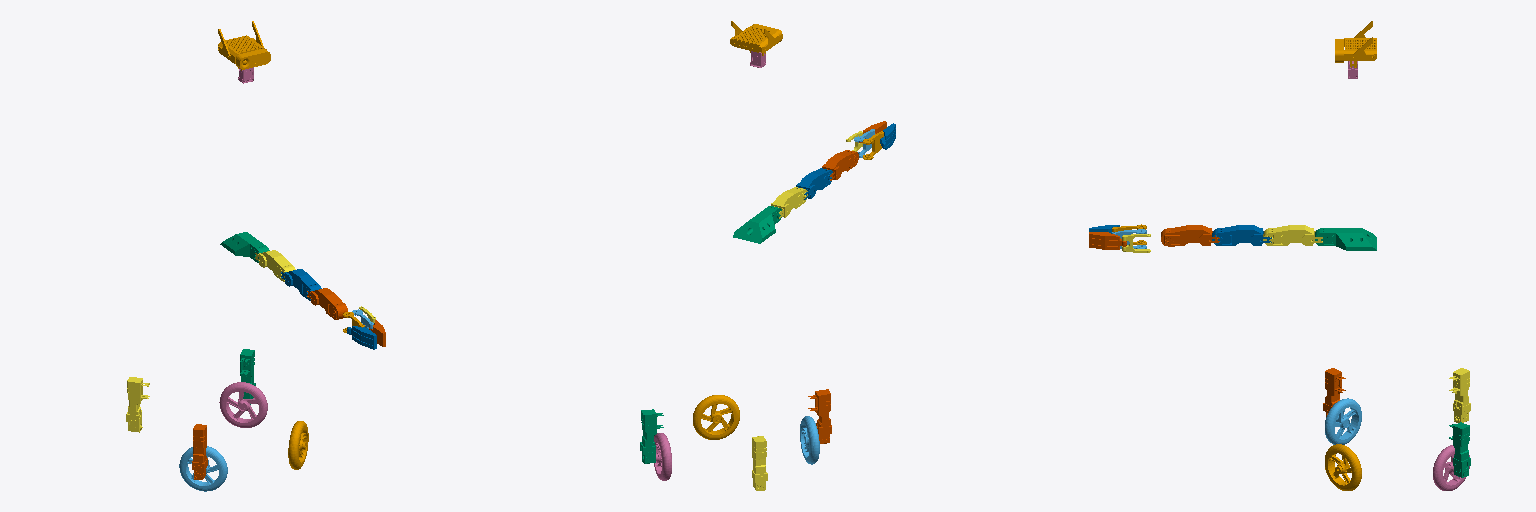
robot.urdf — sobit_pro:
<?xml version="1.0" encoding="utf-8"?>
<!-- =================================================================================== -->
<!-- |    This document was autogenerated by xacro from sobit_pro.urdf.xacro           | -->
<!-- |    EDITING THIS FILE BY HAND IS NOT RECOMMENDED                                 | -->
<!-- =================================================================================== -->
<robot name="sobit_pro" xmlns:controller="http://playerstage.sourceforge.net/gazebo/xmlschema/#controller" xmlns:interface="http://playerstage.sourceforge.net/gazebo/xmlschema/#interface" xmlns:sensor="http://playerstage.sourceforge.net/gazebo/xmlschema/#sensor">
  <material name="wheel">
    <color rgba="0.2 0.2 0.2 1.0"/>
  </material>
  <material name="black">
    <color rgba="0.1 0.1 0.1 1.0"/>
  </material>
  <material name="red">
    <color rgba="1.0 0.0 0.0 1.0"/>
  </material>
  <material name="green">
    <color rgba="0.0 1.0 0.0 1.0"/>
  </material>
  <material name="blue">
    <color rgba="0.0 0.0 1.0 1.0"/>
  </material>
  <!--
  <xacro:include filename="$(find sobit_pro_description)/urdf/arm/arm.urdf.xacro" />
  <xacro:include filename="$(find sobit_pro_description)/urdf/gripper/gripper.urdf.xacro" />
  <xacro:include filename="$(find sobit_pro_description)/urdf/head/head.urdf.xacro" />
  <xacro:include filename="$(find sobit_pro_description)/urdf/pole/pole.urdf.xacro" />
  <xacro:include filename="$(find sobit_pro_description)/urdf/sensor/sensor.urdf.xacro" />
  -->
  <link name="base_footprint"/>
  <joint name="base_joint" type="fixed">
    <parent link="base_footprint"/>
    <child link="base_link"/>
    <origin rpy="0 0 0" xyz="0 0 0.143"/>
  </joint>
  <link name="base_link">
    <visual>
      <origin rpy="1.570796327 0 0" xyz="0 0 -0.143"/>
      <geometry>
        <mesh filename="package://sobit_pro_description/meshes/base/sobit_pro_body.dae"/>
      </geometry>
    </visual>
  </link>
  <!--steering-->
  <joint name="steer_b_l_joint" type="revolute">
    <parent link="base_link"/>
    <child link="steer_b_l_link"/>
    <origin rpy="0 0 0" xyz="0.15841 0.15841 0.07"/>
    <axis xyz="0 0 1"/>
    <limit effort="10" lower="-1.5" upper="1.5" velocity="10"/>
    <dynamics damping="0.2" friction="0"/>
  </joint>
  <link name="steer_b_l_link">
    <visual>
      <origin rpy="1.570796327 0 0" xyz="-0.15841 -0.15841 -0.213"/>
      <geometry>
        <mesh filename="package://sobit_pro_description/meshes/wheel/sobit_pro_steer_b_l.dae"/>
      </geometry>
    </visual>
  </link>
  <joint name="steer_b_r_joint" type="revolute">
    <parent link="base_link"/>
    <child link="steer_b_r_link"/>
    <origin rpy="0 0 0" xyz="-0.15841 0.15841 0.07"/>
    <axis xyz="0 0 1"/>
    <limit effort="10" lower="-1.5" upper="1.5" velocity="10"/>
    <dynamics damping="0.2" friction="0"/>
  </joint>
  <link name="steer_b_r_link">
    <visual>
      <origin rpy="1.570796327 0 0" xyz="0.15841 -0.15841 -0.213"/>
      <geometry>
        <mesh filename="package://sobit_pro_description/meshes/wheel/sobit_pro_steer_b_r.dae"/>
      </geometry>
    </visual>
  </link>
  <joint name="steer_f_l_joint" type="revolute">
    <parent link="base_link"/>
    <child link="steer_f_l_link"/>
    <origin rpy="0 0 0" xyz="0.15841 -0.15841 0.07"/>
    <axis xyz="0 0 1"/>
    <limit effort="10" lower="-1.5" upper="1.5" velocity="10"/>
    <dynamics damping="0.2" friction="0"/>
  </joint>
  <link name="steer_f_l_link">
    <visual>
      <origin rpy="1.570796327 0 0" xyz="-0.15841 0.15841 -0.213"/>
      <geometry>
        <mesh filename="package://sobit_pro_description/meshes/wheel/sobit_pro_steer_f_l.dae"/>
      </geometry>
    </visual>
  </link>
  <joint name="steer_f_r_joint" type="revolute">
    <parent link="base_link"/>
    <child link="steer_f_r_link"/>
    <origin rpy="0 0 0" xyz="-0.15841 -0.15841 0.07"/>
    <axis xyz="0 0 1"/>
    <limit effort="10" lower="-1.5" upper="1.5" velocity="10"/>
    <dynamics damping="0.2" friction="0"/>
  </joint>
  <link name="steer_f_r_link">
    <visual>
      <origin rpy="1.570796327 0 0" xyz="0.15841 0.15841 -0.213"/>
      <geometry>
        <mesh filename="package://sobit_pro_description/meshes/wheel/sobit_pro_steer_f_r.dae"/>
      </geometry>
    </visual>
  </link>
  <!--wheel-->
  <joint name="wheel_b_l_joint" type="continuous">
    <parent link="steer_b_l_link"/>
    <child link="wheel_b_l_link"/>
    <origin rpy="0 0 0" xyz="0 0 -0.1414"/>
    <axis xyz="1 1 0"/>
  </joint>
  <link name="wheel_b_l_link">
    <visual>
      <origin rpy="1.570796327 0 0" xyz="-0.15841 -0.15841 -0.072"/>
      <geometry>
        <mesh filename="package://sobit_pro_description/meshes/wheel/sobit_pro_wheel_b_l.dae"/>
      </geometry>
    </visual>
  </link>
  <joint name="wheel_b_r_joint" type="continuous">
    <parent link="steer_b_r_link"/>
    <child link="wheel_b_r_link"/>
    <origin rpy="0 0 0" xyz="0 0 -0.1414"/>
    <axis xyz="-1 1 0"/>
  </joint>
  <link name="wheel_b_r_link">
    <visual>
      <origin rpy="1.570796327 0 0" xyz="0.15841 -0.15841 -0.072"/>
      <geometry>
        <mesh filename="package://sobit_pro_description/meshes/wheel/sobit_pro_wheel_b_r.dae"/>
      </geometry>
    </visual>
  </link>
  <joint name="wheel_f_l_joint" type="continuous">
    <parent link="steer_f_l_link"/>
    <child link="wheel_f_l_link"/>
    <origin rpy="0 0 0" xyz="0 0 -0.1414"/>
    <axis xyz="-1 1 0"/>
  </joint>
  <link name="wheel_f_l_link">
    <visual>
      <origin rpy="1.570796327 0 0" xyz="-0.15841 0.15841 -0.072"/>
      <geometry>
        <mesh filename="package://sobit_pro_description/meshes/wheel/sobit_pro_wheel_f_l.dae"/>
      </geometry>
    </visual>
  </link>
  <joint name="wheel_f_r_joint" type="continuous">
    <parent link="steer_f_r_link"/>
    <child link="wheel_f_r_link"/>
    <origin rpy="0 0 0" xyz="0 0 -0.1414"/>
    <axis xyz="1 1 0"/>
  </joint>
  <link name="wheel_f_r_link">
    <visual>
      <origin rpy="1.570796327 0 0" xyz="0.15841 0.15841 -0.072"/>
      <geometry>
        <mesh filename="package://sobit_pro_description/meshes/wheel/sobit_pro_wheel_f_r.dae"/>
      </geometry>
    </visual>
  </link>
  <joint name="arm_base_joint" type="fixed">
    <parent link="base_link"/>
    <child link="arm_base_link"/>
    <origin rpy="0 0 0" xyz="0 -0.221 0.5995"/>
  </joint>
  <link name="arm_base_link">
    <visual>
      <origin rpy="1.570796327 0 0" xyz="0 0 0"/>
      <geometry>
        <mesh filename="package://sobit_pro_description/meshes/arm/sobit_pro_arm_base.dae"/>
      </geometry>
    </visual>
  </link>
  <joint name="arm1_joint" type="revolute">
    <parent link="arm_base_link"/>
    <child link="arm1_link"/>
    <origin rpy="1.5707963268 0 0" xyz="0 0 0"/>
    <axis xyz="-1 0 0"/>
    <limit effort="10" lower="-1.5707963268" upper="1.5707963268" velocity="10"/>
    <dynamics damping="0.2" friction="0"/>
  </joint>
  <link name="arm1_link">
    <visual>
      <origin rpy="1.570796327 0 0" xyz="0 0 0"/>
      <geometry>
        <mesh filename="package://sobit_pro_description/meshes/arm/sobit_pro_arm1.dae"/>
      </geometry>
    </visual>
  </link>
  <joint name="arm2_joint" type="revolute">
    <parent link="arm1_link"/>
    <child link="arm2_link"/>
    <origin rpy="-1.137 0 0" xyz="0 0 0.15"/>
    <axis xyz="-1 0 0"/>
    <limit effort="10" lower="-1.5707963268" upper="1.5707963268" velocity="10"/>
    <dynamics damping="0.2" friction="0"/>
  </joint>
  <link name="arm2_link">
    <visual>
      <origin rpy="1.570796327 0 0" xyz="0 0 -0.15"/>
      <geometry>
        <mesh filename="package://sobit_pro_description/meshes/arm/sobit_pro_arm2.dae"/>
      </geometry>
    </visual>
  </link>
  <joint name="arm3_joint" type="revolute">
    <parent link="arm2_link"/>
    <child link="arm3_link"/>
    <origin rpy="-1.30 0 0" xyz="0 -0.13594617 0.06339274"/>
    <axis xyz="-1 0 0"/>
    <limit effort="10" lower="-1.5707963268" upper="1.5707963268" velocity="10"/>
    <dynamics damping="0.2" friction="0"/>
  </joint>
  <link name="arm3_link">
    <visual>
      <origin rpy="1.570796327 0 0" xyz="0 0.13594617 -0.21339274"/>
      <geometry>
        <mesh filename="package://sobit_pro_description/meshes/arm/sobit_pro_arm3.dae"/>
      </geometry>
    </visual>
  </link>
  <joint name="arm4_joint" type="revolute">
    <parent link="arm3_link"/>
    <child link="arm4_link"/>
    <origin rpy="0.87 0 0" xyz="0 -0.09641814 -0.11490667"/>
    <axis xyz="-1 0 0"/>
    <limit effort="10" lower="-1.5707963268" upper="1.5707963268" velocity="10"/>
    <dynamics damping="0.2" friction="0"/>
  </joint>
  <link name="arm4_link">
    <visual>
      <origin rpy="1.570796327 0 0" xyz="0 0.23236431 -0.09848607"/>
      <geometry>
        <mesh filename="package://sobit_pro_description/meshes/arm/sobit_pro_arm4.dae"/>
      </geometry>
    </visual>
  </link>
  <transmission name="arm1_joint_transmission">
    <type>transmission_interface/SimpleTransmission</type>
    <joint name="arm1_joint">
      <hardwareInterface>PositionJointInterface</hardwareInterface>
    </joint>
    <actuator name="arm1_joint_actuator">
      <hardwareInterface>PositionJointInterface</hardwareInterface>
      <mechanicalReduction>1</mechanicalReduction>
    </actuator>
  </transmission>
  <transmission name="arm2_joint_transmission">
    <type>transmission_interface/SimpleTransmission</type>
    <joint name="arm2_joint">
      <hardwareInterface>PositionJointInterface</hardwareInterface>
    </joint>
    <actuator name="arm2_joint_actuator">
      <hardwareInterface>PositionJointInterface</hardwareInterface>
      <mechanicalReduction>1</mechanicalReduction>
    </actuator>
  </transmission>
  <transmission name="arm3_joint_transmission">
    <type>transmission_interface/SimpleTransmission</type>
    <joint name="arm3_joint">
      <hardwareInterface>PositionJointInterface</hardwareInterface>
    </joint>
    <actuator name="arm3_joint_actuator">
      <hardwareInterface>PositionJointInterface</hardwareInterface>
      <mechanicalReduction>1</mechanicalReduction>
    </actuator>
  </transmission>
  <transmission name="arm4_joint_transmission">
    <type>transmission_interface/SimpleTransmission</type>
    <joint name="arm4_joint">
      <hardwareInterface>PositionJointInterface</hardwareInterface>
    </joint>
    <actuator name="arm4_joint_actuator">
      <hardwareInterface>PositionJointInterface</hardwareInterface>
      <mechanicalReduction>1</mechanicalReduction>
    </actuator>
  </transmission>
  <joint name="gripper_joint" type="revolute">
    <parent link="arm4_link"/>
    <child link="gripper_link"/>
    <origin rpy="0 0 0" xyz="0.0 0.0 0.0"/>
    <axis xyz="0 0 1"/>
    <limit effort="1" lower="-1.570796327" upper="0" velocity="1"/>
  </joint>
  <link name="gripper_link"/>
  <joint name="gripper_inner_r_joint" type="revolute">
    <parent link="arm4_link"/>
    <child link="gripper_inner_r_link"/>
    <origin rpy="0 0 0" xyz="-0.015 -0.07811569 0.02333593"/>
    <axis xyz="0 0 1"/>
    <limit effort="1" lower="-1.570796327" upper="0" velocity="1"/>
    <mimic joint="gripper_joint" multiplier="1.0" offset="0"/>
  </joint>
  <link name="gripper_inner_r_link">
    <visual>
      <origin rpy="1.570796327 0 0" xyz="0.015 0.31048 -0.121822"/>
      <geometry>
        <mesh filename="package://sobit_pro_description/meshes/gripper/sobit_pro_gripper_i_r.dae"/>
      </geometry>
    </visual>
  </link>
  <joint name="gripper_inner_l_joint" type="revolute">
    <parent link="arm4_link"/>
    <child link="gripper_inner_l_link"/>
    <origin rpy="0 0 0" xyz="0.015 -0.07811569 0.02333593"/>
    <axis xyz="0 0 1"/>
    <limit effort="1" lower="-1.570796327" upper="0" velocity="1"/>
    <mimic joint="gripper_joint" multiplier="-1.0" offset="0"/>
  </joint>
  <link name="gripper_inner_l_link">
    <visual>
      <origin rpy="1.570796327 0 0" xyz="-0.015 0.31048 -0.121822"/>
      <geometry>
        <mesh filename="package://sobit_pro_description/meshes/gripper/sobit_pro_gripper_i_l.dae"/>
      </geometry>
    </visual>
  </link>
  <joint name="gripper_outer_r_joint" type="revolute">
    <parent link="arm4_link"/>
    <child link="gripper_outer_r_link"/>
    <origin rpy="0 0 0" xyz="-0.04 -0.0580698 0.02333593"/>
    <axis xyz="0 0 1"/>
    <limit effort="1" lower="-1.570796327" upper="0" velocity="1"/>
    <mimic joint="gripper_joint" multiplier="1.12" offset="0"/>
  </joint>
  <link name="gripper_outer_r_link">
    <visual>
      <origin rpy="1.570796327 0 0" xyz="0.04 0.29043411 -0.121822"/>
      <geometry>
        <mesh filename="package://sobit_pro_description/meshes/gripper/sobit_pro_gripper_o_r.dae"/>
      </geometry>
    </visual>
  </link>
  <joint name="gripper_outer_l_joint" type="revolute">
    <parent link="arm4_link"/>
    <child link="gripper_outer_l_link"/>
    <origin rpy="0 0 0" xyz="0.04 -0.0580698 0.02333593"/>
    <axis xyz="0 0 1"/>
    <limit effort="1" lower="-1.570796327" upper="0" velocity="1"/>
    <mimic joint="gripper_joint" multiplier="-1.12" offset="0"/>
  </joint>
  <link name="gripper_outer_l_link">
    <visual>
      <origin rpy="1.570796327 0 0" xyz="-0.04 0.29043411 -0.121822"/>
      <geometry>
        <mesh filename="package://sobit_pro_description/meshes/gripper/sobit_pro_gripper_o_l.dae"/>
      </geometry>
    </visual>
  </link>
  <joint name="finger_r_joint" type="revolute">
    <parent link="gripper_inner_r_link"/>
    <child link="finger_r_link"/>
    <origin rpy="0 0 0" xyz="0 -0.080001 0"/>
    <axis xyz="0 0 1"/>
    <limit effort="1" lower="-1.570796327" upper="0" velocity="1"/>
    <mimic joint="gripper_joint" multiplier="-0.84" offset="0"/>
  </joint>
  <link name="finger_r_link">
    <visual>
      <origin rpy="1.570796327 0 0" xyz="0.015 0.390481 -0.121822"/>
      <geometry>
        <mesh filename="package://sobit_pro_description/meshes/gripper/sobit_pro_finger_r.dae"/>
      </geometry>
    </visual>
  </link>
  <joint name="finger_l_joint" type="revolute">
    <parent link="gripper_inner_l_link"/>
    <child link="finger_l_link"/>
    <origin rpy="0 0 0" xyz="0 -0.080001 0"/>
    <axis xyz="0 0 1"/>
    <limit effort="1" lower="-1.570796327" upper="0" velocity="1"/>
    <mimic joint="gripper_joint" multiplier="0.84" offset="0"/>
  </joint>
  <link name="finger_l_link">
    <visual>
      <origin rpy="1.570796327 0 0" xyz="-0.015 0.390481 -0.121822"/>
      <geometry>
        <mesh filename="package://sobit_pro_description/meshes/gripper/sobit_pro_finger_l.dae"/>
      </geometry>
    </visual>
  </link>
  <transmission name="gripper_joint_transmission">
    <type>transmission_interface/SimpleTransmission</type>
    <joint name="gripper_joint">
      <hardwareInterface>PositionJointInterface</hardwareInterface>
    </joint>
    <actuator name="gripper_joint_actuator">
      <hardwareInterface>PositionJointInterface</hardwareInterface>
      <mechanicalReduction>1</mechanicalReduction>
    </actuator>
  </transmission>
  <joint name="head_camera_pan_joint" type="revolute">
    <parent link="base_link"/>
    <child link="head_camera_pan_link"/>
    <origin rpy="0 0 0" xyz="0 -0.12985 1.117"/>
    <axis xyz="0 0 1"/>
    <limit effort="10" lower="-1.5707963268" upper="1.5707963268" velocity="10"/>
    <dynamics damping="0.2" friction="0"/>
  </joint>
  <link name="head_camera_pan_link">
    <visual>
      <origin rpy="1.570796327 0 0" xyz="0 0 -0.019"/>
      <geometry>
        <mesh filename="package://sobit_pro_description/meshes/head/sobit_pro_head_pan.dae"/>
      </geometry>
    </visual>
  </link>
  <joint name="head_camera_tilt_joint" type="revolute">
    <parent link="head_camera_pan_link"/>
    <child link="head_camera_tilt_link"/>
    <origin rpy="0 0 0" xyz="0 0 0.041"/>
    <axis xyz="-1 0 0"/>
    <limit effort="10" lower="-1.5707963268" upper="1.5707963268" velocity="10"/>
    <dynamics damping="0.2" friction="0"/>
  </joint>
  <link name="head_camera_tilt_link"/>
  <transmission name="head_camera_pan_joint_transmission">
    <type>transmission_interface/SimpleTransmission</type>
    <joint name="head_camera_pan_joint">
      <hardwareInterface>PositionJointInterface</hardwareInterface>
    </joint>
    <actuator name="head_camera_pan_joint_actuator">
      <hardwareInterface>PositionJointInterface</hardwareInterface>
      <mechanicalReduction>1</mechanicalReduction>
    </actuator>
  </transmission>
  <transmission name="head_camera_tilt_joint_transmission">
    <type>transmission_interface/SimpleTransmission</type>
    <joint name="head_camera_tilt_joint">
      <hardwareInterface>PositionJointInterface</hardwareInterface>
    </joint>
    <actuator name="head_camera_tilt_joint_actuator">
      <hardwareInterface>PositionJointInterface</hardwareInterface>
      <mechanicalReduction>1</mechanicalReduction>
    </actuator>
  </transmission>
  <joint name="head_camera_joint" type="fixed">
    <parent link="head_camera_tilt_link"/>
    <child link="head_camera_link"/>
    <origin rpy="0 0 0" xyz="0 0 0"/>
  </joint>
  <link name="head_camera_link">
    <visual>
      <origin rpy="1.570796327 0 0" xyz="0 0 -0.06"/>
      <geometry>
        <mesh filename="package://sobit_pro_description/meshes/sensor/azure_kinect.dae"/>
      </geometry>
    </visual>
  </link>
  <!--
  <stack_hexagons parent="base_link" />
  <xacro:arm prefix="arm" parent="plate_top_link"/>
  <xacro:hand prefix="hand_motor" parent="wrist_flex_link"/>
  <xacro:pole parent="plate_top_link"/>
  <xacro:xtion_motor prefix="xtion" parent="base_pole_link"/>
  <xacro:sensor_asus_xtion_pro parent="xtion_double_sided_tape_link"/>
  <xacro:mic parent="base_pole_link"/>
  <xacro:matrix parent="base_pole_link"/>
  <xacro:urg parent="base_link"/>
  -->
</robot>

--- Facts derived from the render (not from the file) ---
3 views of the same robot in one strip: view 1: azimuth 30°, elevation 25°; view 2: azimuth 150°, elevation 25°; view 3: azimuth 270°, elevation 25° (orthographic).
Model sobit_pro with 25 links and 24 joints (17 revolute, 4 continuous, 3 fixed), rooted at base_footprint, posed all joints at 0.
Visible links, largest first — view 1: wheel_b_l_link, head_camera_link, wheel_f_r_link, steer_b_r_link, wheel_f_l_link, arm_base_link, steer_f_r_link, arm3_link, arm1_link, arm2_link, steer_b_l_link; view 2: wheel_f_l_link, head_camera_link, arm_base_link, steer_b_l_link, steer_f_r_link, wheel_f_r_link, steer_b_r_link, wheel_b_l_link, arm3_link, arm1_link, arm2_link; view 3: wheel_f_l_link, wheel_f_r_link, arm_base_link, head_camera_link, arm3_link, arm1_link, arm2_link, steer_b_l_link, steer_b_r_link, wheel_b_l_link, steer_f_r_link, finger_l_link.
Boxes of the visible links, x1=… form: wheel_b_l_link: x1=219, y1=382, x2=267, y2=427; head_camera_link: x1=218, y1=21, x2=270, y2=70; wheel_f_r_link: x1=179, y1=446, x2=227, y2=491; steer_b_r_link: x1=126, y1=377, x2=149, y2=432; wheel_f_l_link: x1=288, y1=421, x2=308, y2=469; arm_base_link: x1=220, y1=232, x2=269, y2=262; steer_f_r_link: x1=192, y1=424, x2=207, y2=479; arm3_link: x1=307, y1=288, x2=347, y2=319; arm1_link: x1=255, y1=250, x2=295, y2=281; arm2_link: x1=281, y1=269, x2=321, y2=300; steer_b_l_link: x1=240, y1=349, x2=255, y2=404; wheel_f_l_link: x1=693, y1=395, x2=739, y2=439; head_camera_link: x1=730, y1=21, x2=782, y2=55; arm_base_link: x1=733, y1=206, x2=781, y2=243; steer_b_l_link: x1=640, y1=409, x2=663, y2=463; steer_f_r_link: x1=808, y1=389, x2=831, y2=443; wheel_f_r_link: x1=800, y1=416, x2=819, y2=464; steer_b_r_link: x1=752, y1=436, x2=767, y2=490; wheel_b_l_link: x1=654, y1=433, x2=671, y2=480; arm3_link: x1=822, y1=150, x2=858, y2=180; arm1_link: x1=771, y1=187, x2=807, y2=218; arm2_link: x1=796, y1=168, x2=832, y2=199; wheel_f_l_link: x1=1325, y1=444, x2=1361, y2=490; wheel_f_r_link: x1=1325, y1=398, x2=1361, y2=444; arm_base_link: x1=1315, y1=228, x2=1376, y2=250; head_camera_link: x1=1335, y1=21, x2=1376, y2=67; arm3_link: x1=1161, y1=225, x2=1219, y2=246; arm1_link: x1=1263, y1=225, x2=1322, y2=245; arm2_link: x1=1212, y1=225, x2=1271, y2=245; steer_b_l_link: x1=1449, y1=422, x2=1470, y2=477; steer_b_r_link: x1=1449, y1=368, x2=1470, y2=422; wheel_b_l_link: x1=1433, y1=445, x2=1469, y2=490; steer_f_r_link: x1=1323, y1=368, x2=1345, y2=416; finger_l_link: x1=1089, y1=232, x2=1126, y2=249.
Size in the robot's own frame: 0.4331 by 1.12 by 1.42 metres.
17 mesh visuals loaded from 22 distinct referenced files (17 Collada DAE); not drawn: 5 (reference not matched to a file when rendering).